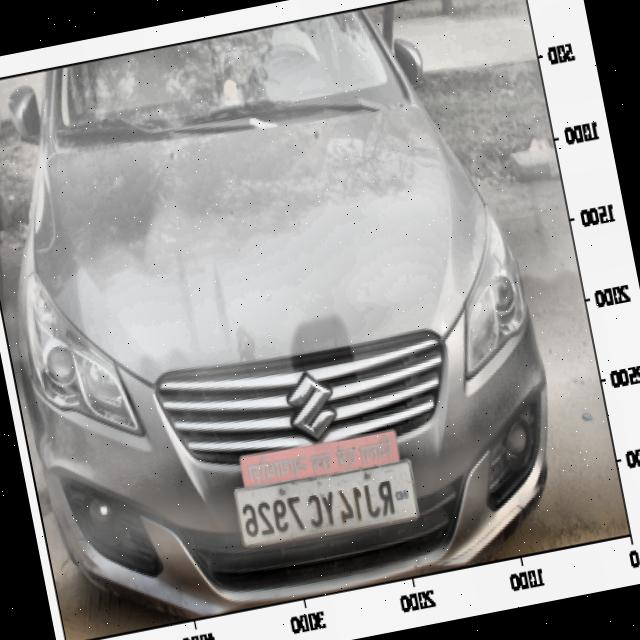license_plate: (237, 466, 406, 551)
